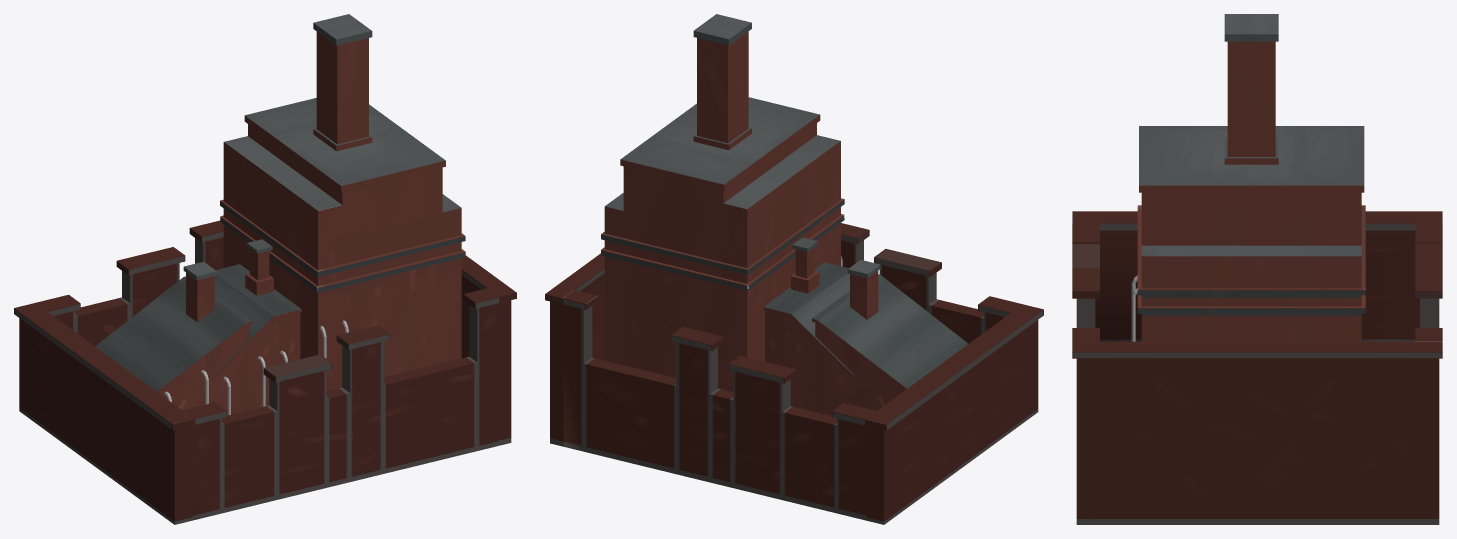
Rendered from Factory.FBX.
3 renders of one model, left to right at view 1: azimuth 30°, elevation 25°; view 2: azimuth 150°, elevation 25°; view 3: azimuth 270°, elevation 25°, orthographic. The views are drawn at different scales.
Visible parts, largest first — view 1: factory; view 2: factory; view 3: factory.
Part boxes in pixels (<box>): factory: <box>14,14,516,524</box>; factory: <box>545,14,1043,524</box>; factory: <box>1072,14,1442,524</box>.
Size of the model in its own units: 27.03 by 21.61 by 29.57.
